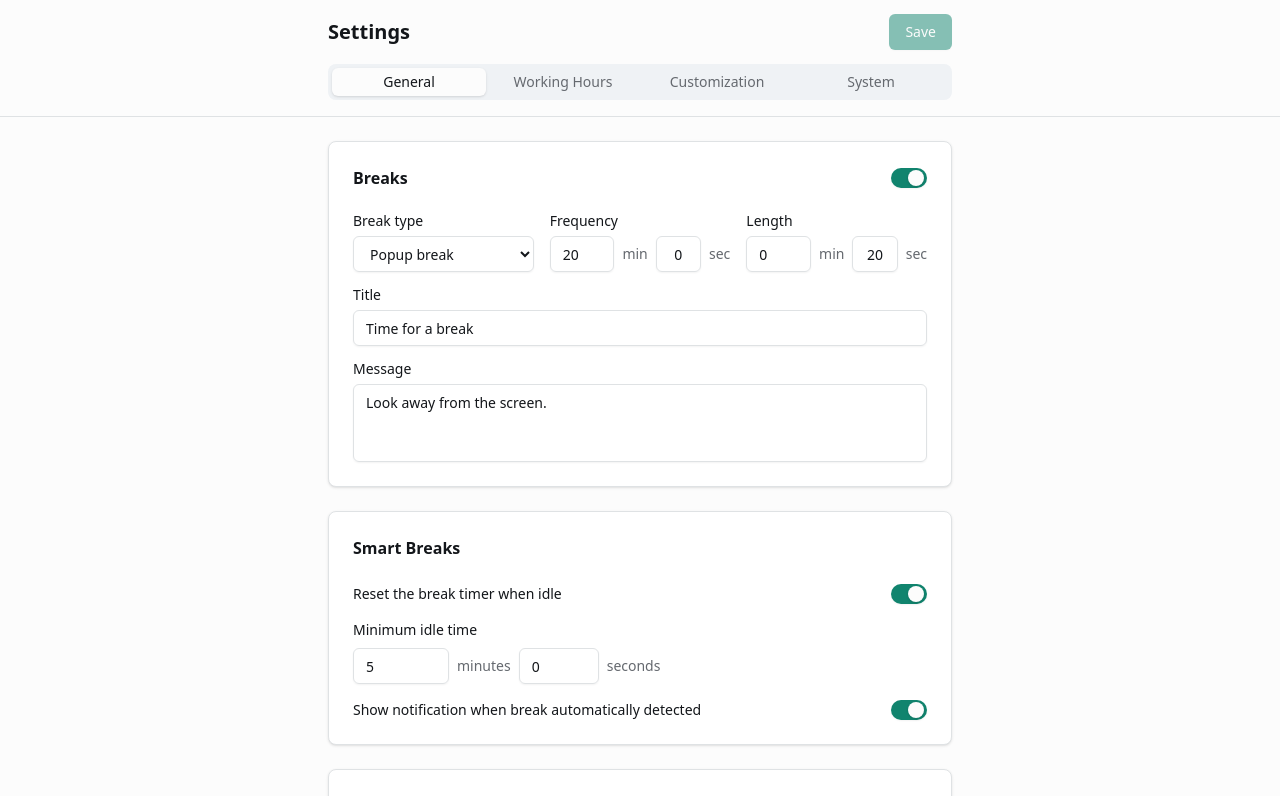
Test: SettingsWindow › loads working hours and smart breaks into their groups
The width and height of the screenshot is (1280, 796).
Click the tab "Working Hours": click(563, 82) [486,68,640,96]
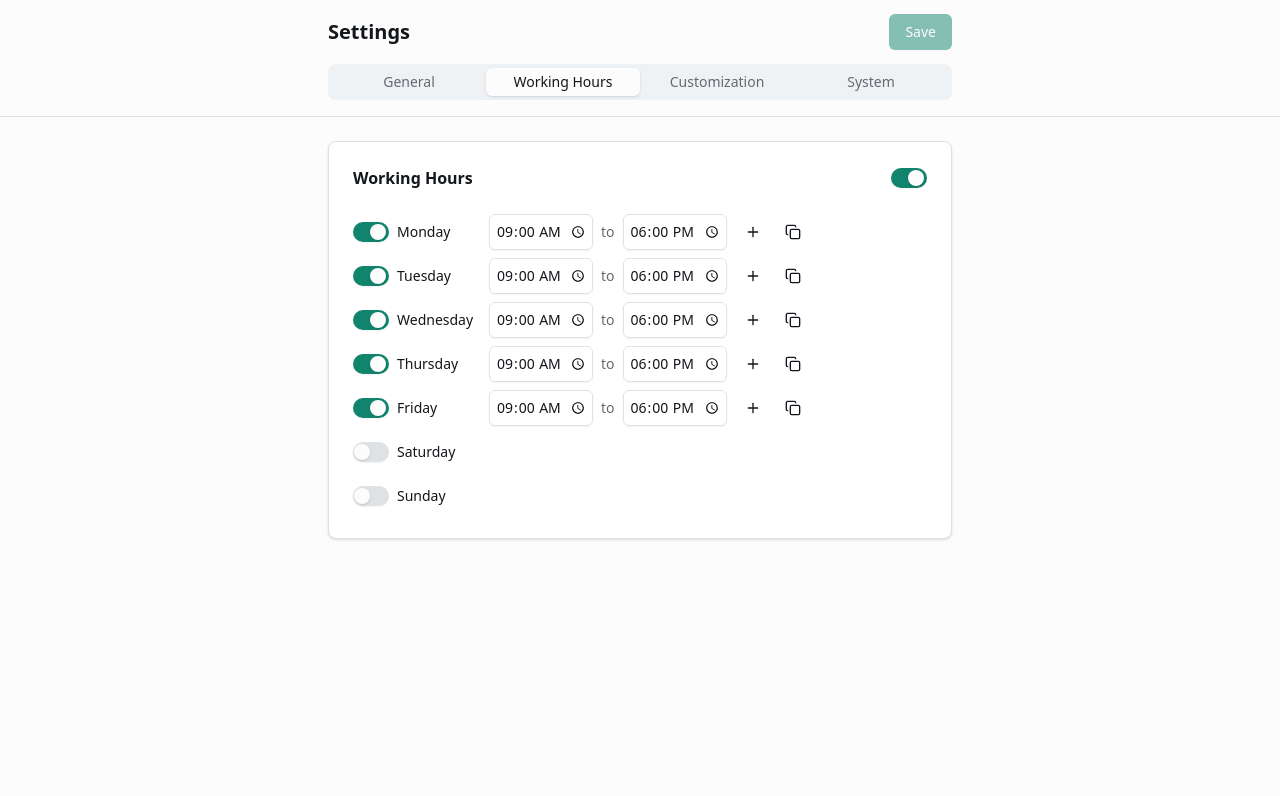
Expected: the time field named "Monday start 1" holds "09:00", [489,214,593,250]
Expected: the time field named "Monday end 1" holds "18:00", [622,214,726,250]
Click the tab "General": click(409, 82) [332,68,486,96]
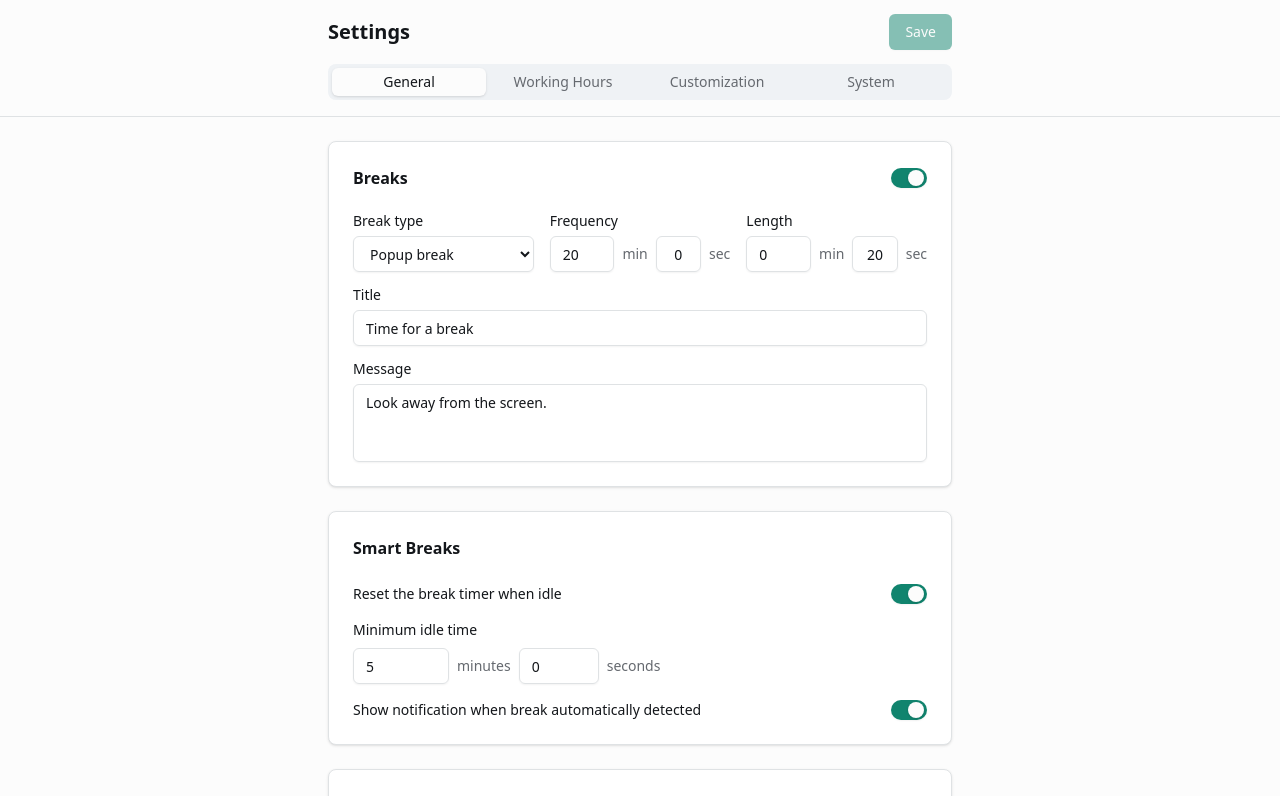
Expected: the number field named "Idle time in minutes" holds "5", [353,648,449,684]
Expected: the number field named "Idle time in seconds" holds "0", [519,648,599,684]
